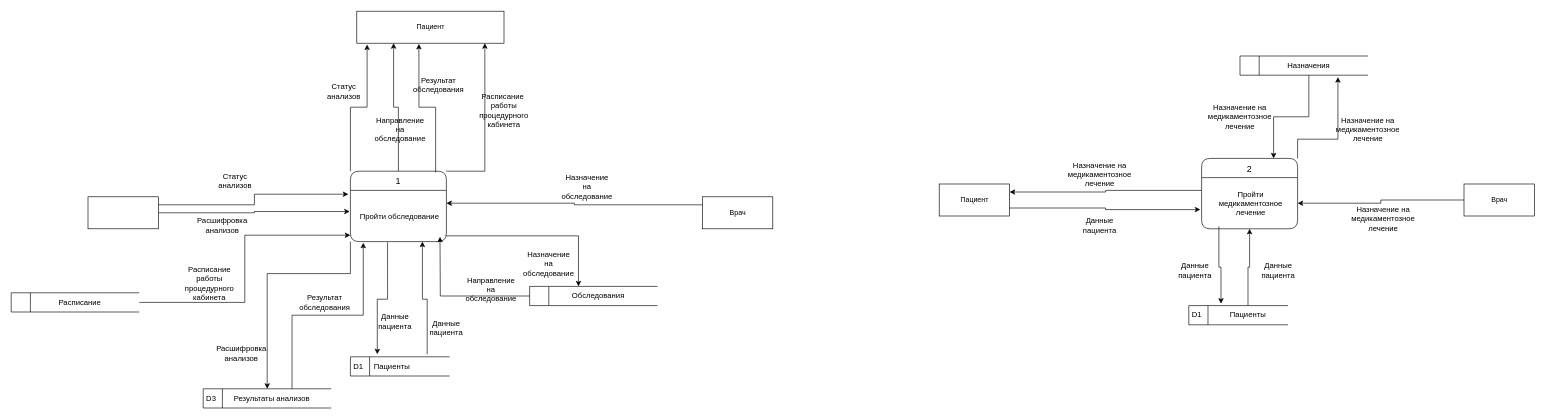
This 1546x419 diagram has some shape labels left out. The shapes that lost their labels are listed below. From the top down, each one's box as (x1, y1, x2, y2) in pixels, then its label:
(1239, 55, 1368, 75): D5
(87, 196, 158, 229): Лаборатория
(11, 292, 139, 312): D4
(529, 286, 658, 306): D2
